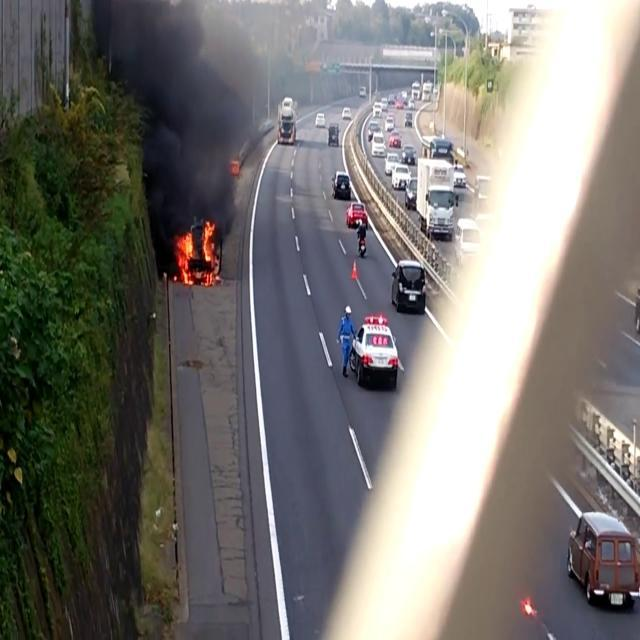Fire: (174, 215, 219, 285)
Smoke: (90, 1, 250, 220)
